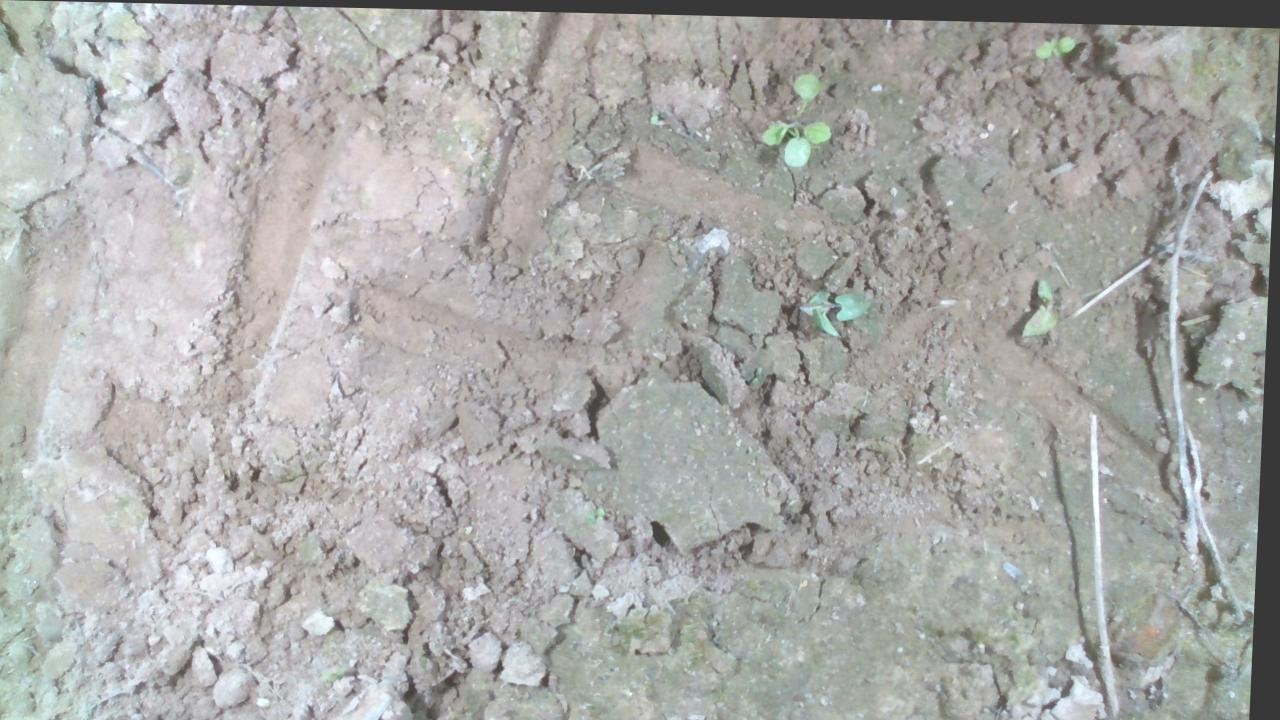weed: (757, 67, 834, 166), (800, 284, 875, 333), (1033, 26, 1075, 54)
